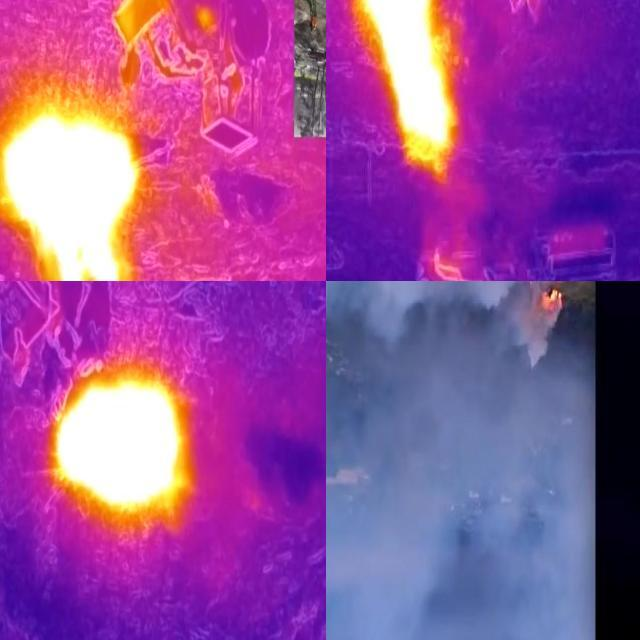fire: (49, 363, 193, 535), (1, 105, 140, 282), (354, 1, 458, 154), (530, 282, 566, 326)
